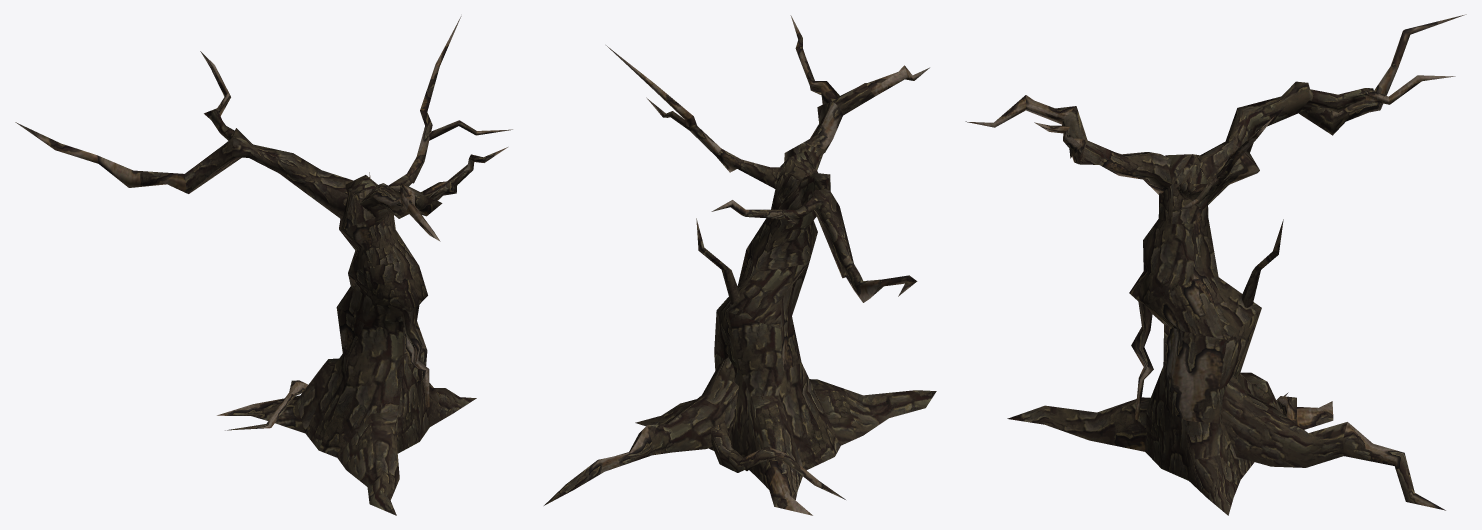
Rendered from C_shu002.fbx.
The picture shows the model from 3 angles, left to right: view 1: azimuth 30°, elevation 25°; view 2: azimuth 150°, elevation 25°; view 3: azimuth 270°, elevation 25°; orthographic projection. The views are drawn at different scales.
Visible parts, largest first — view 1: C_shu002; view 2: C_shu002; view 3: C_shu002.
Boxes of the visible parts, <box> form: C_shu002: <box>15,16,512,515</box>; C_shu002: <box>544,15,936,515</box>; C_shu002: <box>965,14,1466,515</box>.
Bounding box in the file's own units: 1099 × 1053 × 1182.
